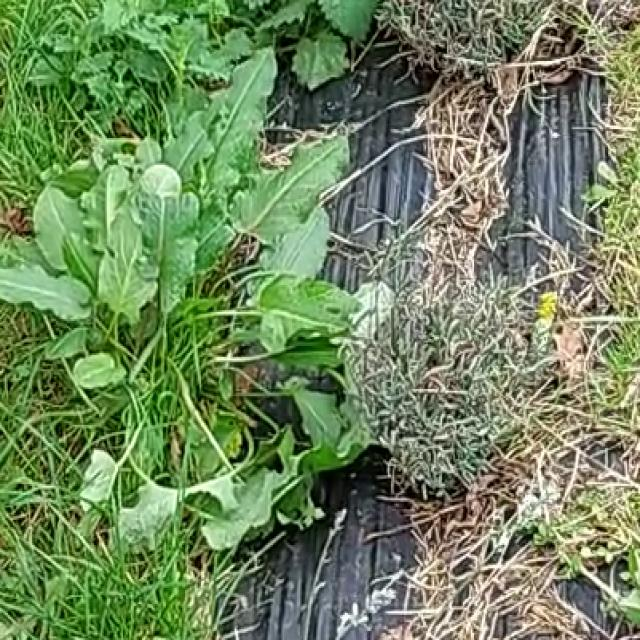organic waste: (0, 70, 405, 552)
